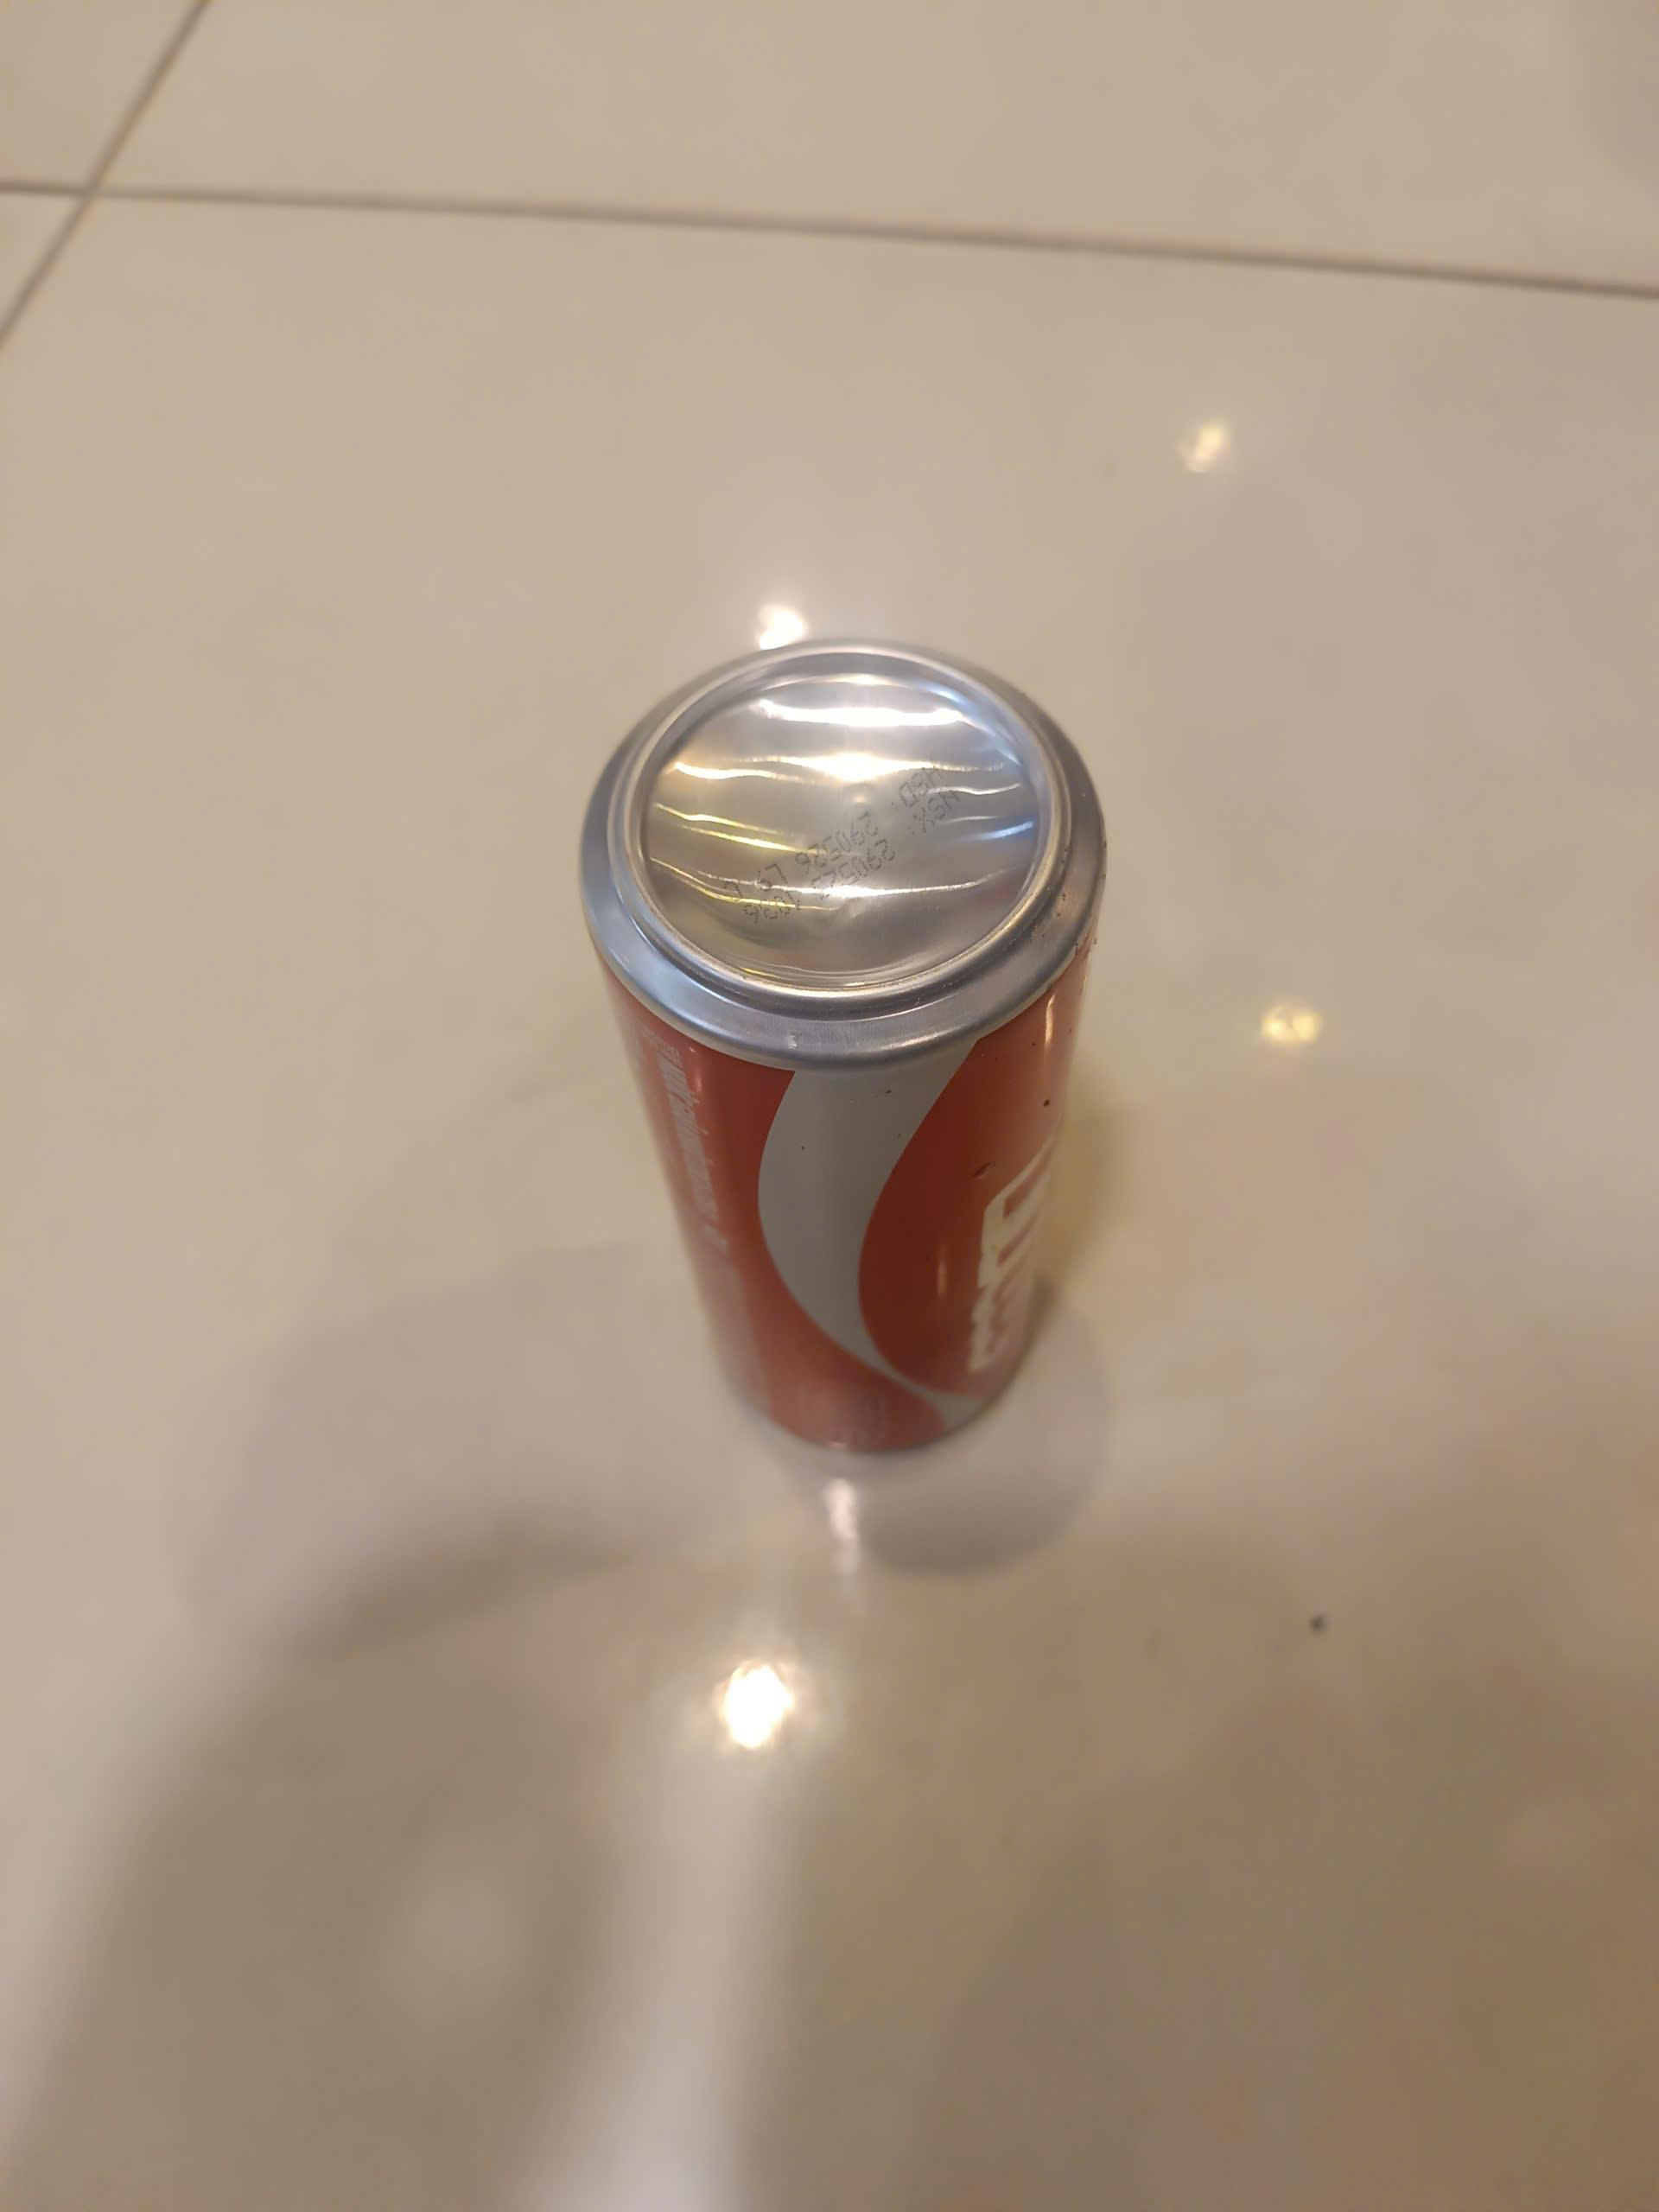Vo co: (584, 641, 1121, 1470)
